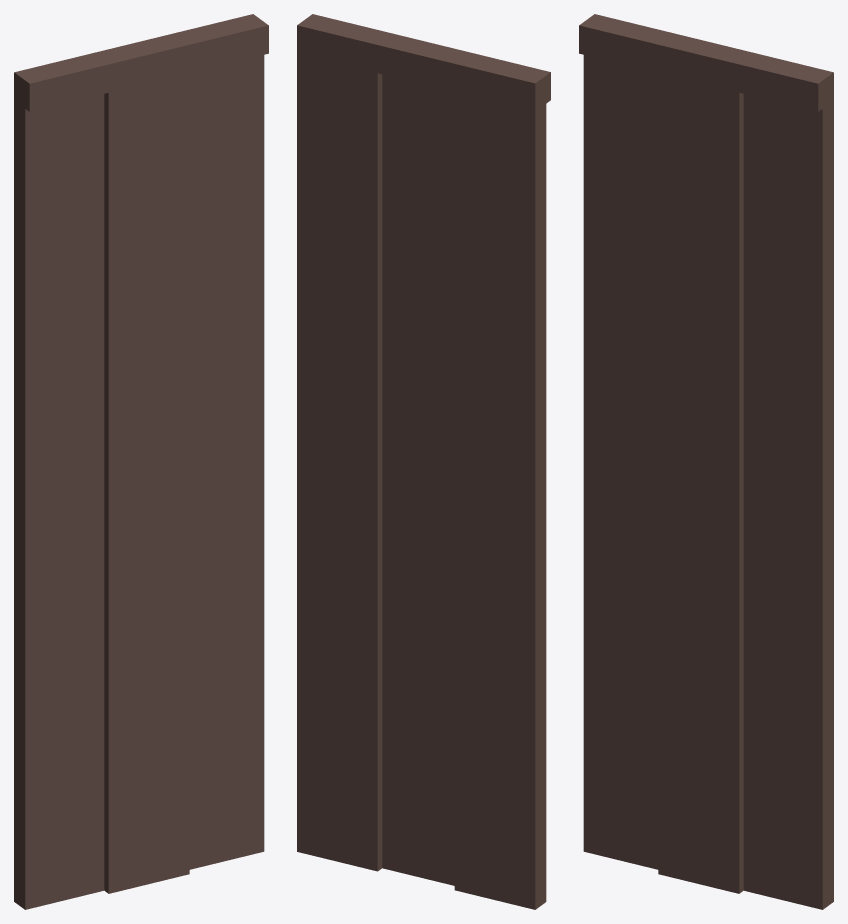
File: SM_P0_Curtain_Dark_A.obj
The picture shows the model from 3 angles, left to right: view 1: azimuth 30°, elevation 25°; view 2: azimuth 150°, elevation 25°; view 3: azimuth 330°, elevation 25°; orthographic projection.
Visible parts, largest first — view 1: fold_0, fold_1, fold_2, gather_top; view 2: fold_0, fold_2, fold_1, gather_top; view 3: fold_2, fold_1, fold_0, gather_top.
Boxes of the visible parts, <box> form: fold_0: <box>14,94,104,909</box>; fold_1: <box>104,67,189,893</box>; fold_2: <box>189,55,264,869</box>; gather_top: <box>14,14,268,111</box>; fold_0: <box>454,86,546,909</box>; fold_2: <box>297,47,382,871</box>; fold_1: <box>382,74,454,885</box>; gather_top: <box>297,14,550,111</box>; fold_2: <box>743,94,833,909</box>; fold_1: <box>658,67,743,893</box>; fold_0: <box>583,55,658,869</box>; gather_top: <box>579,14,833,111</box>.
Size of the model in its own units: 0.62 by 2.06 by 0.07.
